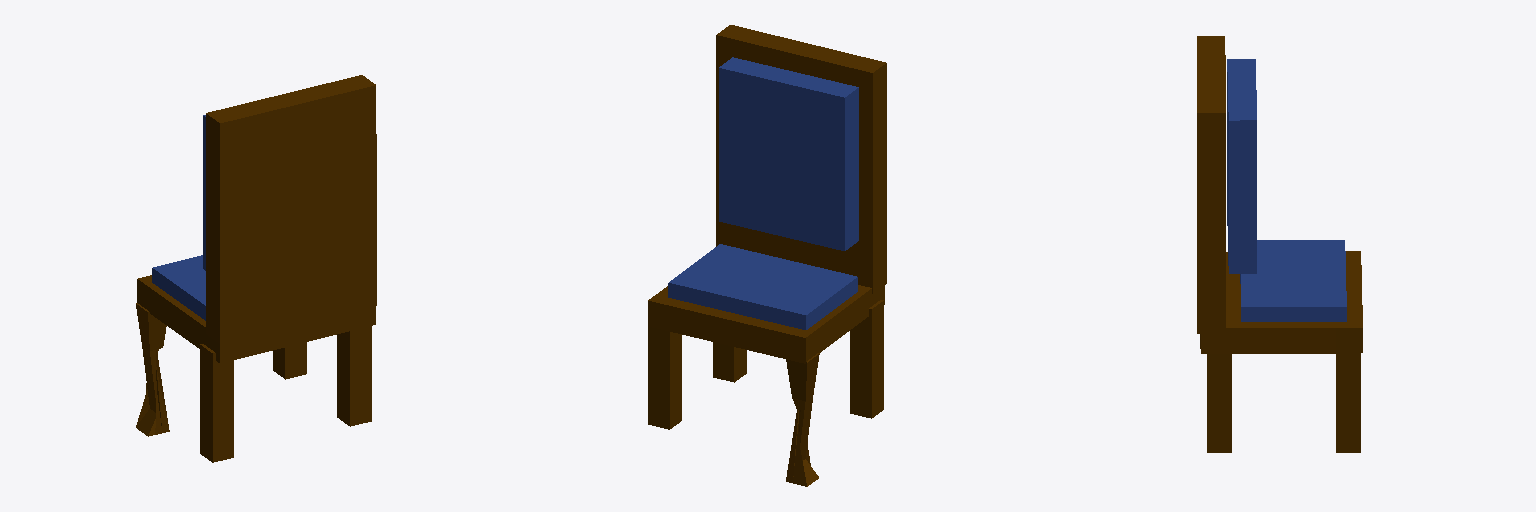
File: chair-y-good.obj
3 renders of one model, left to right at view 1: azimuth 30°, elevation 25°; view 2: azimuth 150°, elevation 25°; view 3: azimuth 270°, elevation 25°, orthographic.
Visible parts, largest first — view 1: Box5, Box4, Box, Box1, Box3, Box6, Box2; view 2: Box7, Box5, Box6, Box4, Box, Box2, Box3, Box1; view 3: Box5, Box6, Box7, Box4, Box2, Box1.
Part boxes in pixels (left/top/right/bottom): Box5: left=206, top=75, right=376, bottom=343; Box4: left=137, top=275, right=375, bottom=363; Box: left=200, top=344, right=233, bottom=462; Box1: left=337, top=326, right=371, bottom=426; Box3: left=136, top=303, right=169, bottom=436; Box6: left=152, top=255, right=205, bottom=320; Box2: left=273, top=342, right=306, bottom=379; Box7: left=719, top=57, right=858, bottom=250; Box5: left=716, top=25, right=886, bottom=293; Box6: left=668, top=244, right=857, bottom=329; Box4: left=648, top=285, right=884, bottom=363; Box: left=850, top=300, right=883, bottom=418; Box2: left=648, top=296, right=681, bottom=429; Box3: left=786, top=353, right=819, bottom=486; Box1: left=713, top=342, right=746, bottom=382; Box5: left=1197, top=36, right=1225, bottom=333; Box6: left=1240, top=240, right=1346, bottom=321; Box7: left=1227, top=59, right=1256, bottom=273; Box4: left=1200, top=251, right=1362, bottom=353; Box2: left=1336, top=328, right=1360, bottom=452; Box1: left=1207, top=354, right=1231, bottom=452.
Size of the model in its own units: 2.96 by 6.44 by 2.67.